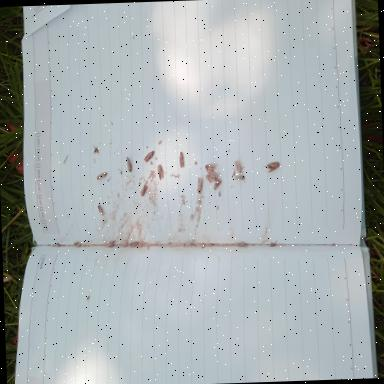pbw: (232, 158, 244, 174), (261, 162, 279, 172), (142, 150, 154, 162), (212, 178, 222, 190), (96, 172, 108, 180), (140, 184, 148, 196), (196, 178, 202, 194), (126, 156, 132, 172), (178, 152, 184, 168), (158, 164, 164, 180), (205, 170, 216, 178), (97, 204, 104, 216), (204, 164, 216, 170), (130, 240, 140, 246), (208, 176, 218, 182), (236, 242, 244, 246), (56, 242, 60, 246)
